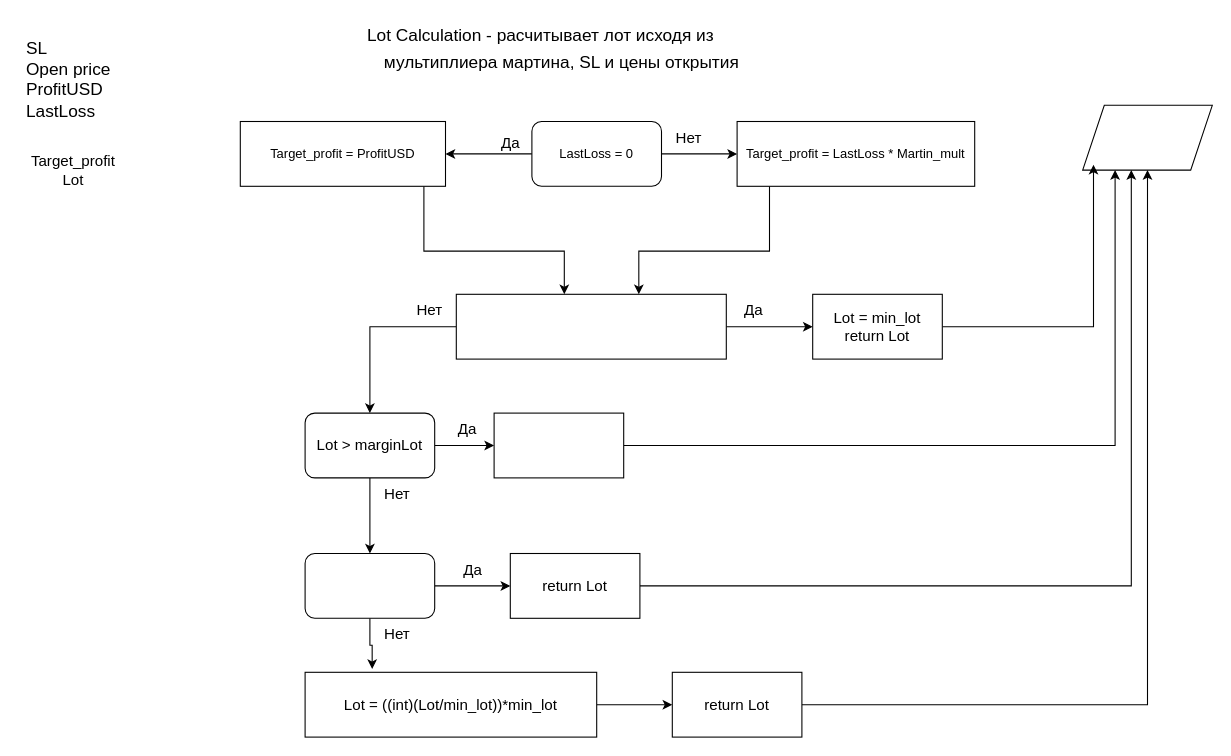
Image size: 1231x756. Some labels were removed from this diagram. Here are the shapes that lost their labels. From the top down, the centre of each, then its label:
At pixel 1147 137: "Выход".
At pixel 590 326: "Lot = (target_profit / (open_price - SL)) Lot < min_lot".
At pixel 558 445: "return marginLot".
At pixel 369 585: "Lot %min_lot == 0".
